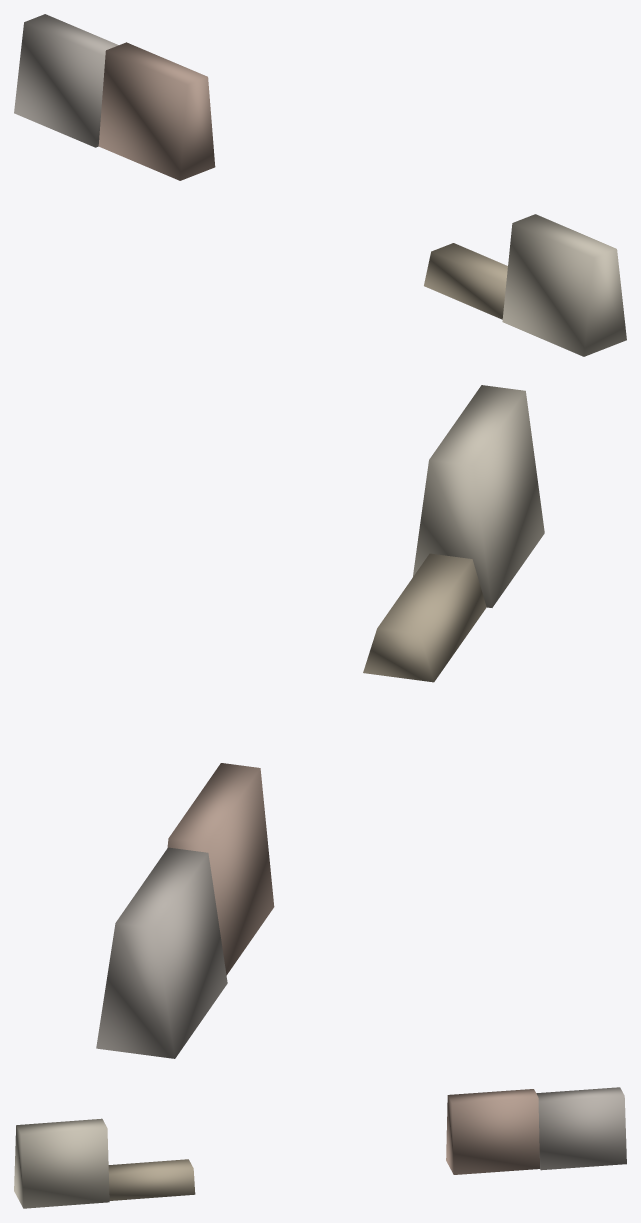
The model's file is farm_-1_14_collision.glb.
3 renders of one model, top to bottom at view 1: azimuth 30°, elevation 25°; view 2: azimuth 150°, elevation 25°; view 3: azimuth 270°, elevation 25°, orthographic. The views are drawn at different scales.
Parts seen in each view (by area): view 1: geometry_0; view 2: geometry_0; view 3: geometry_0.
Boxes of the visible parts, x1,y1,x2,y2 form: geometry_0: [14, 14, 626, 356]; geometry_0: [96, 385, 544, 1058]; geometry_0: [14, 1087, 626, 1208].
Bounding box in the file's own units: 3.07 × 1.59 × 10.6.
